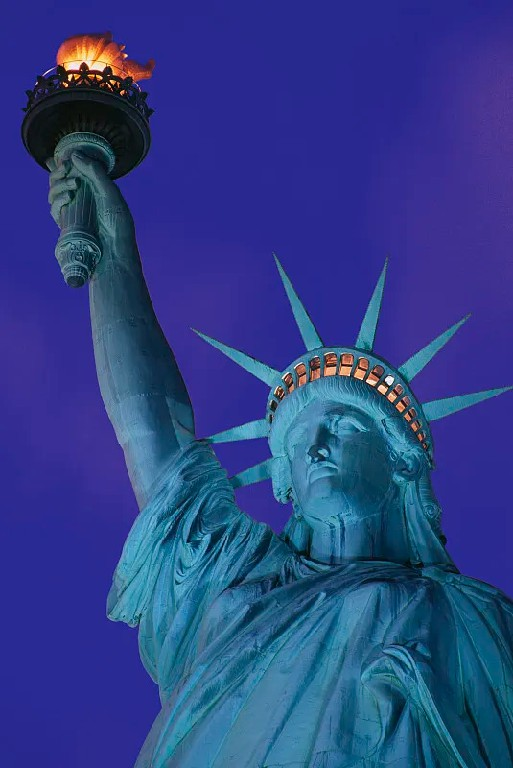SL: (21, 32, 513, 768)
